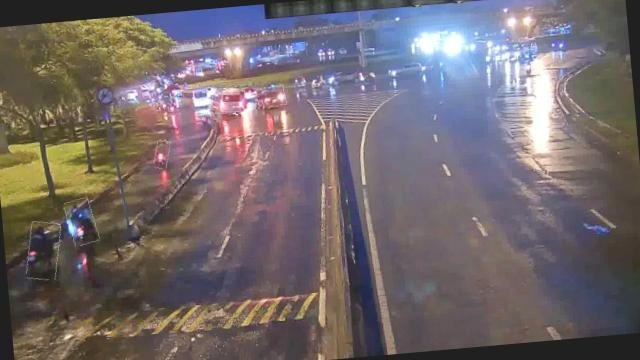Bike: (23, 220, 62, 281), (64, 198, 98, 246), (154, 140, 170, 169)
Bus: (208, 86, 245, 116), (185, 86, 214, 108)
Car: (256, 86, 286, 108)
